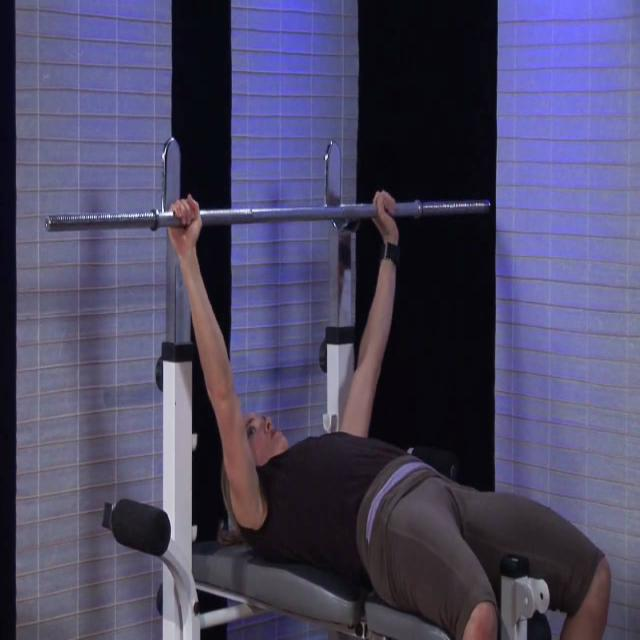bench: (35, 150, 622, 640)
